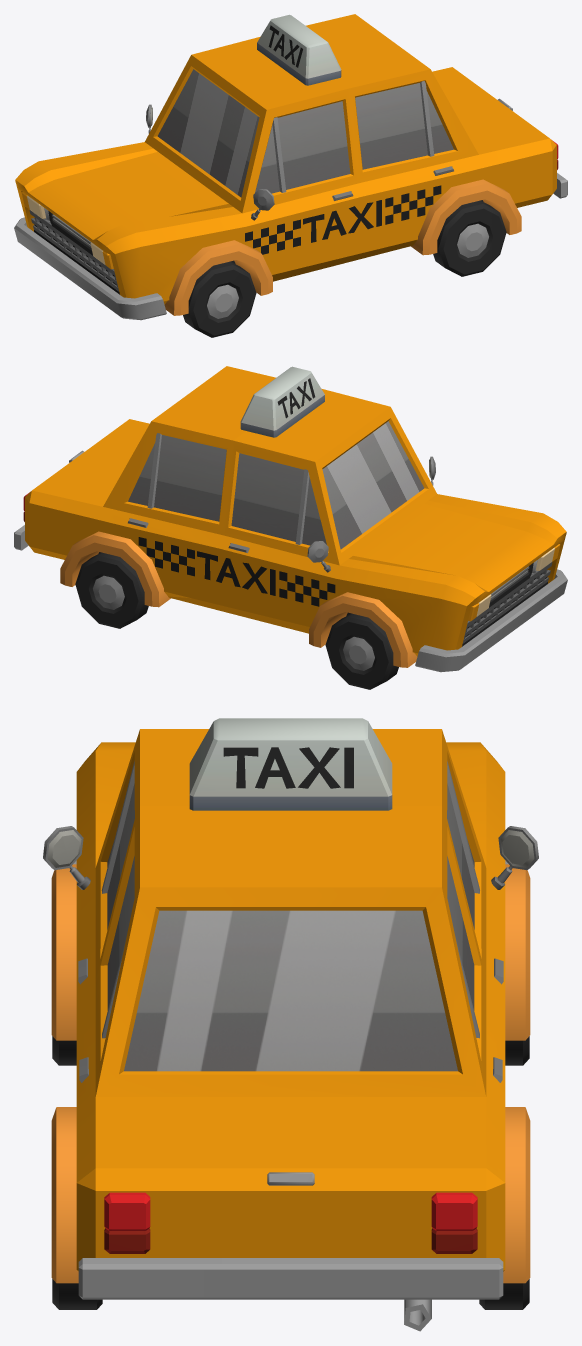
The model's file is Taxi_1.fbx.
3 views of the same model, one above another, from view 1: azimuth 30°, elevation 25°; view 2: azimuth 150°, elevation 25°; view 3: azimuth 270°, elevation 25° (orthographic). The views are drawn at different scales.
Parts seen in each view (by area): view 1: Taxi_1, RL, FL; view 2: Taxi_1, RR, FR; view 3: Taxi_1, RL, RR.
Boxes of the visible parts, x1,y1,x2,y2 form: Taxi_1: (14,14,567,320); RL: (433,200,506,276); FL: (183,261,256,337); Taxi_1: (14,366,567,672); RR: (75,552,148,628); FR: (325,613,398,689); Taxi_1: (43,718,538,1331); RL: (52,1279,102,1309); RR: (479,1279,529,1309).
Bounding box in the file's own units: 3.55 × 1.7 × 1.67.
